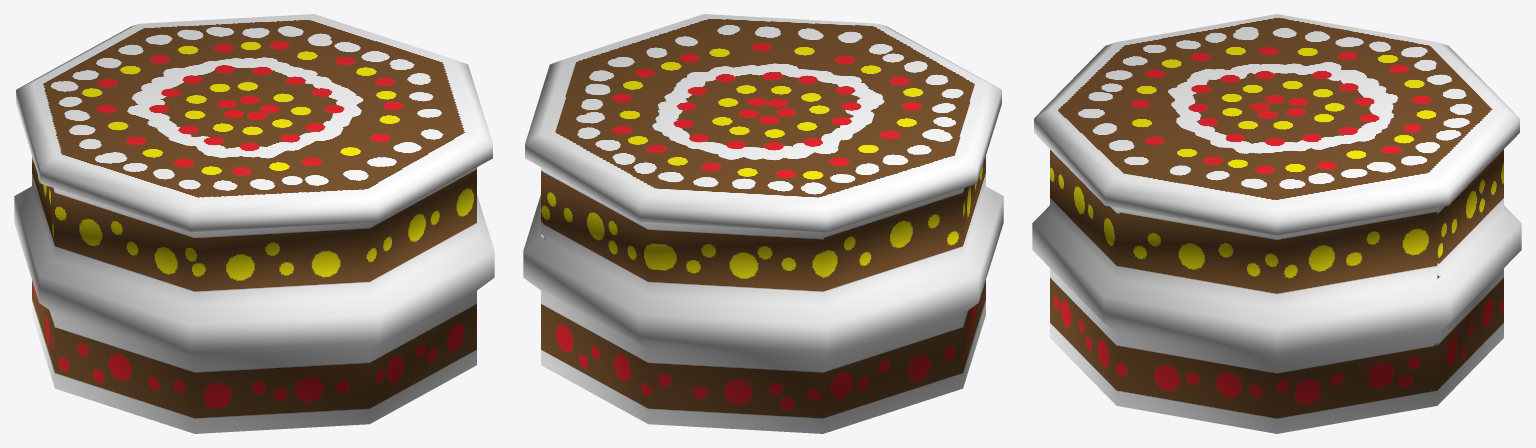
The model's file is Cake.fbx.
3 renders of one model, left to right at view 1: azimuth 30°, elevation 25°; view 2: azimuth 150°, elevation 25°; view 3: azimuth 270°, elevation 25°, orthographic.
Visible parts, largest first — view 1: Cylinder; view 2: Cylinder; view 3: Cylinder.
Boxes of the visible parts, x1,y1,x2,y2 form: Cylinder: [14, 14, 494, 433]; Cylinder: [523, 14, 1003, 433]; Cylinder: [1032, 14, 1521, 433].
Size of the model in its own units: 2.16 by 1.11 by 2.16.
